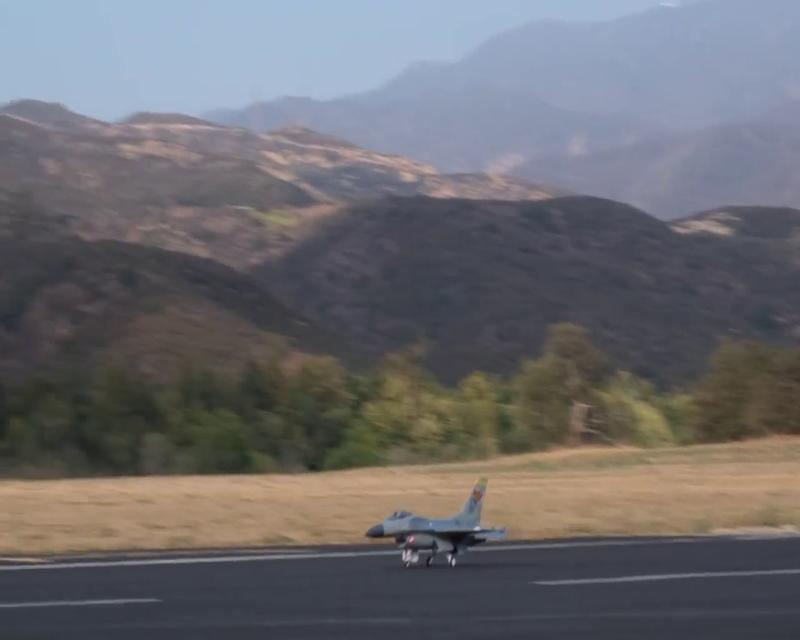UAV: (364, 475, 508, 568)
